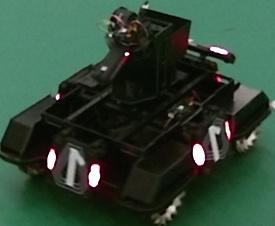armor_1: (47, 150, 100, 188), (194, 121, 230, 165)
